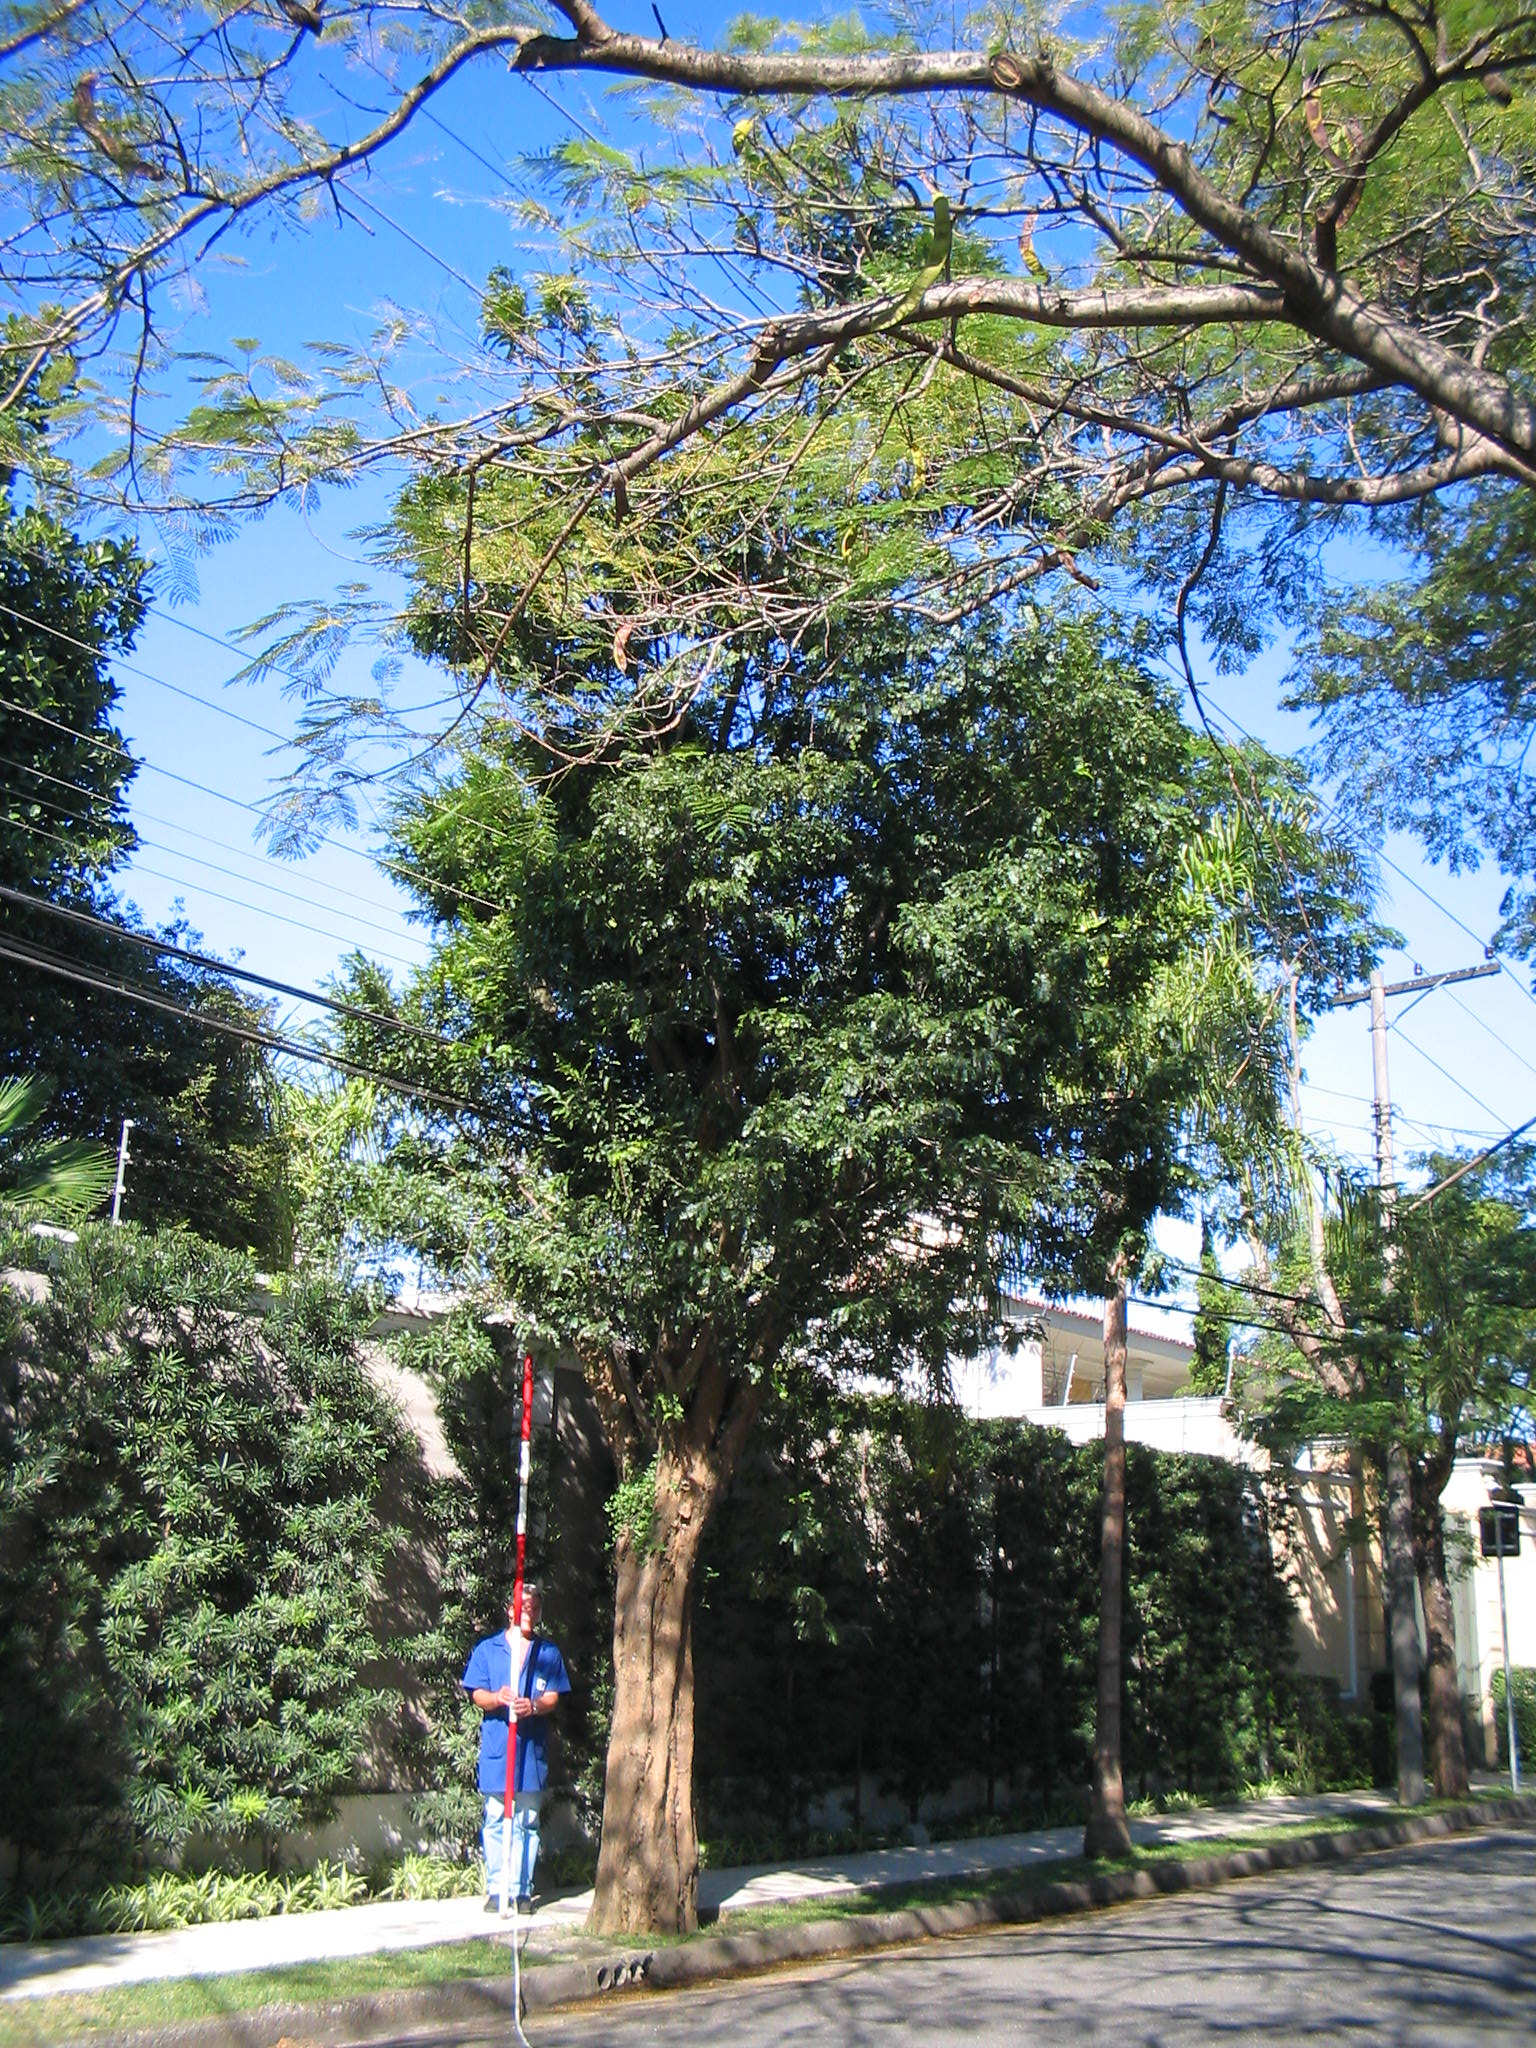crown: (353, 653, 1346, 1467), (1212, 1200, 1523, 1495)
stem: (570, 1500, 744, 1937), (1402, 1524, 1486, 1787)
stick: (476, 1350, 549, 1916)
tree: (340, 640, 1357, 1929), (1191, 1192, 1528, 1787)
